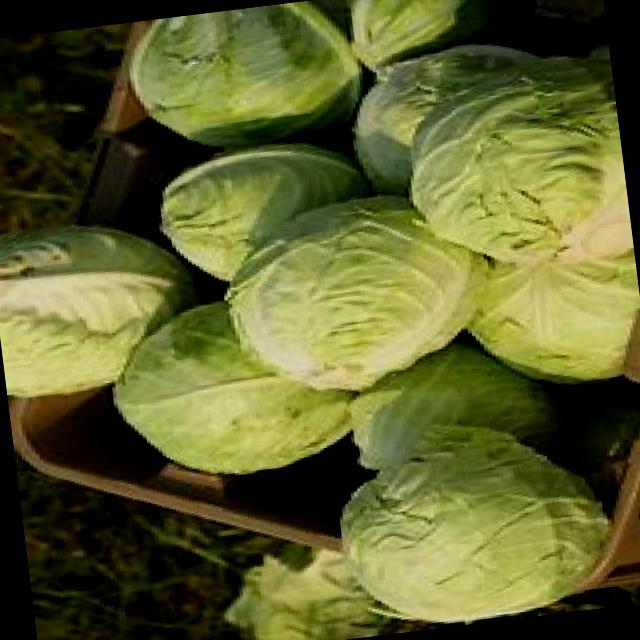cabbage: (324, 416, 612, 632), (216, 195, 501, 410), (382, 55, 633, 272), (112, 0, 363, 156), (0, 216, 190, 402)
